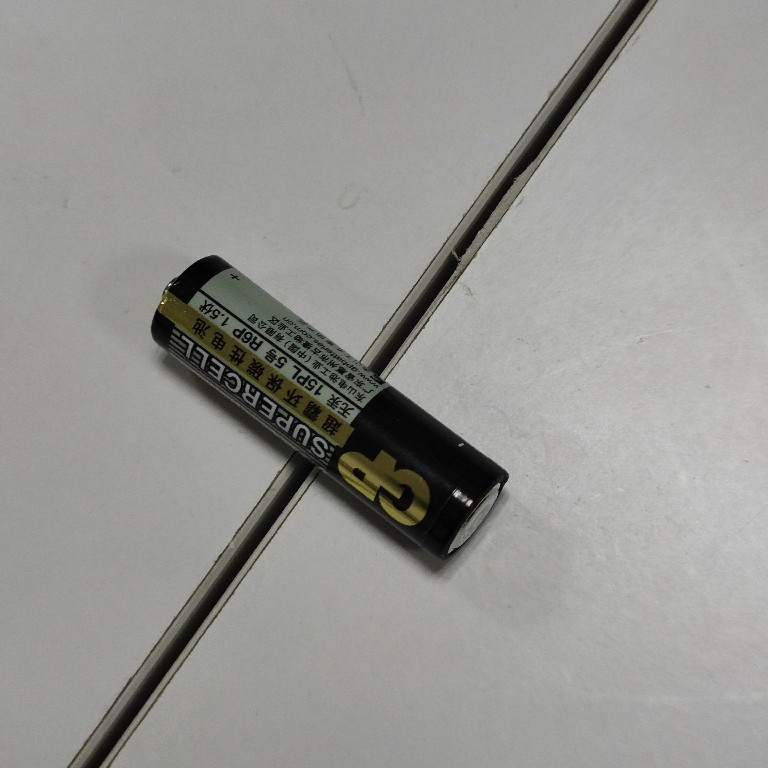charge: (144, 250, 512, 569)
